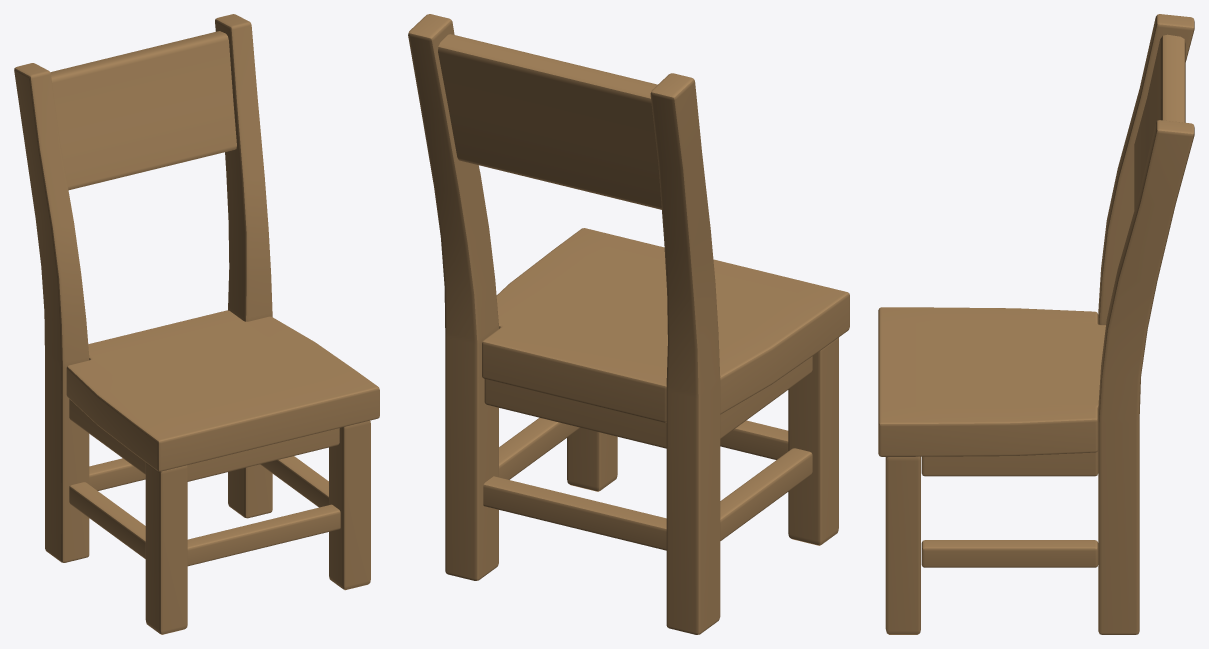
File: prp_Chair_01.fbx
The picture shows the model from 3 angles, left to right: view 1: azimuth 30°, elevation 25°; view 2: azimuth 150°, elevation 25°; view 3: azimuth 270°, elevation 25°; orthographic projection. The views are drawn at different scales.
Visible parts, largest first — view 1: PRP_Chair_01_Back, PRP_Chair_01_Base, PRP_Chair_01_Front; view 2: PRP_Chair_01_Back, PRP_Chair_01_Base, PRP_Chair_01_Front; view 3: PRP_Chair_01_Base, PRP_Chair_01_Back, PRP_Chair_01_Front.
Boxes of the visible parts, bbox=[...] form: PRP_Chair_01_Back: bbox=[14, 14, 272, 562]; PRP_Chair_01_Base: bbox=[66, 310, 379, 481]; PRP_Chair_01_Front: bbox=[69, 420, 370, 634]; PRP_Chair_01_Back: bbox=[408, 14, 720, 634]; PRP_Chair_01_Base: bbox=[482, 228, 849, 448]; PRP_Chair_01_Front: bbox=[499, 337, 838, 545]; PRP_Chair_01_Base: bbox=[878, 307, 1105, 476]; PRP_Chair_01_Back: bbox=[1098, 14, 1194, 634]; PRP_Chair_01_Front: bbox=[885, 456, 1098, 634].
Bounding box in the file's own units: 8511 × 17198 × 9678.
